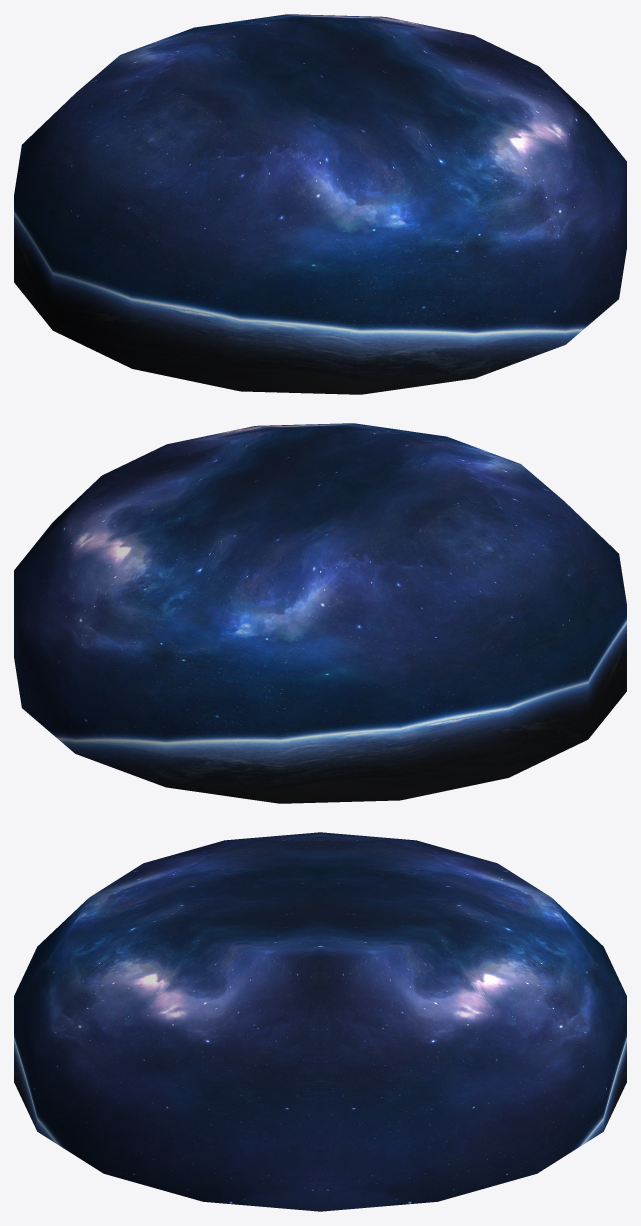
File: ts_tkcdt001.FBX
3 views of the same model, one above another, from view 1: azimuth 30°, elevation 25°; view 2: azimuth 150°, elevation 25°; view 3: azimuth 270°, elevation 25° (orthographic).
Parts seen in each view (by area): view 1: ts_tkc006; view 2: ts_tkc006; view 3: ts_tkc006.
Part boxes in pixels (bbox=[...]): ts_tkc006: bbox=[14, 14, 626, 394]; ts_tkc006: bbox=[14, 423, 626, 803]; ts_tkc006: bbox=[14, 832, 626, 1211].
Bounding box in the file's own units: 39.22 × 13.94 × 39.22.
